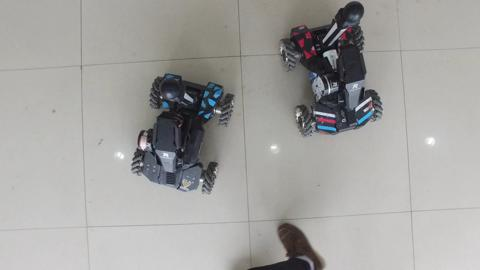chariot: (276, 2, 391, 148), (122, 67, 241, 200)
